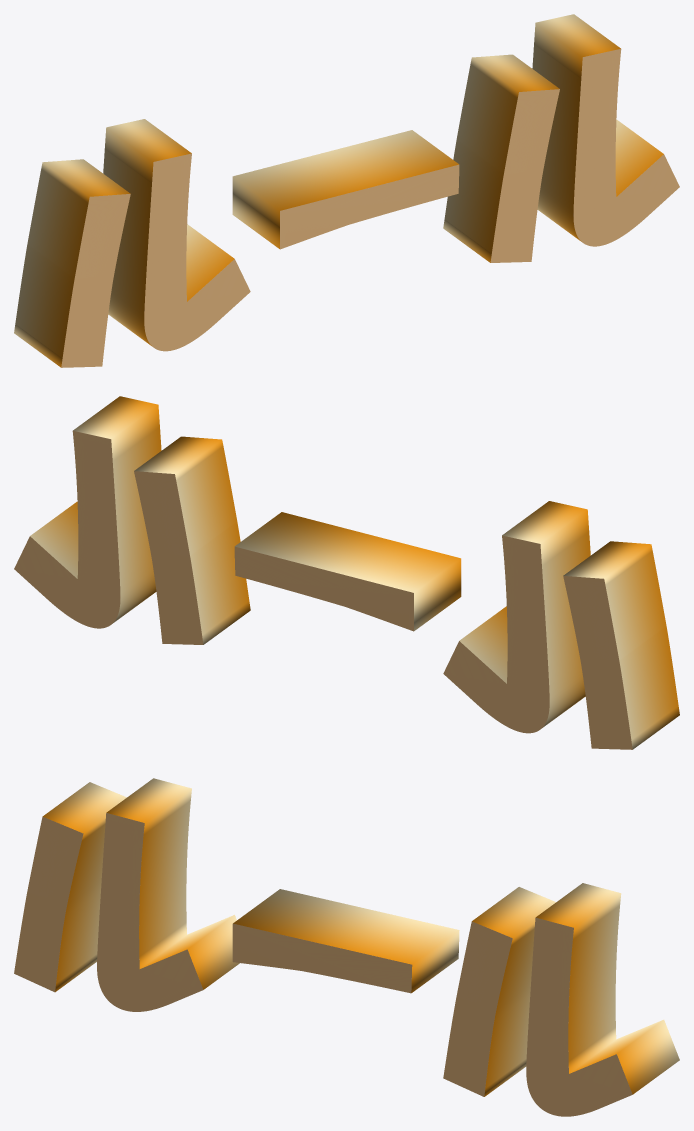
File: rule_moji.obj
3 views of the same model, one above another, from view 1: azimuth 30°, elevation 25°; view 2: azimuth 150°, elevation 25°; view 3: azimuth 330°, elevation 25° (orthographic).
Parts seen in each view (by area): view 1: テキスト.001; view 2: テキスト.001; view 3: テキスト.001.
Boxes of the visible parts, <box> form: テキスト.001: <box>14,14,679,367</box>; テキスト.001: <box>14,396,679,749</box>; テキスト.001: <box>14,778,679,1116</box>.
Bounding box in the file's own units: 2.13 × 0.6359 × 0.2821.
